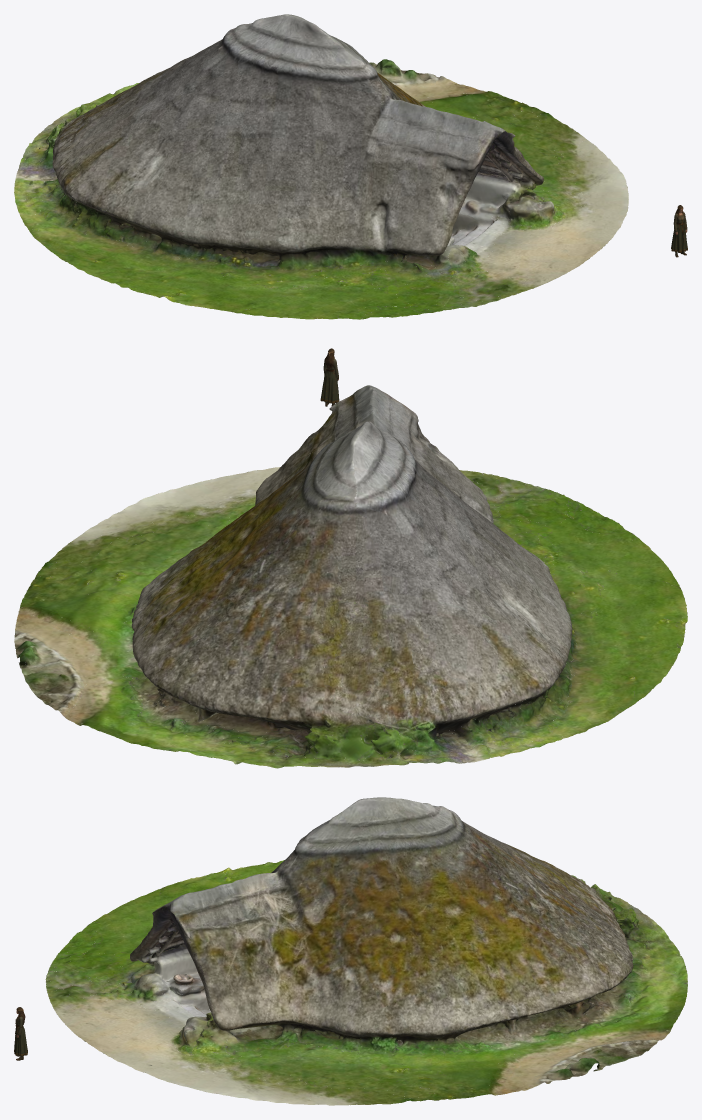
The model's file is KFCHouse.glb.
The picture shows the model from 3 angles, top to bottom: view 1: azimuth 30°, elevation 25°; view 2: azimuth 150°, elevation 25°; view 3: azimuth 270°, elevation 25°; orthographic projection. The views are drawn at different scales.
Parts seen in each view (by area): view 1: 16, 39, 62, Mesh1.0; view 2: 16, 39, 62, Mesh1.0; view 3: 16, 39, 62, Mesh1.0.
Boxes of the visible parts, bbox=[...] form: 16: bbox=[20, 14, 628, 319]; 39: bbox=[14, 39, 589, 319]; 62: bbox=[17, 59, 628, 319]; Mesh1.0: bbox=[671, 205, 687, 257]; 16: bbox=[14, 385, 687, 751]; 39: bbox=[18, 395, 684, 768]; 62: bbox=[14, 410, 687, 767]; Mesh1.0: bbox=[320, 348, 339, 406]; 16: bbox=[46, 797, 687, 1105]; 39: bbox=[45, 821, 686, 1105]; 62: bbox=[46, 849, 687, 1104]; Mesh1.0: bbox=[14, 1007, 27, 1060].
Bounding box in the file's own units: 18.23 × 8.02 × 20.43.
5 materials, 5 textured.
